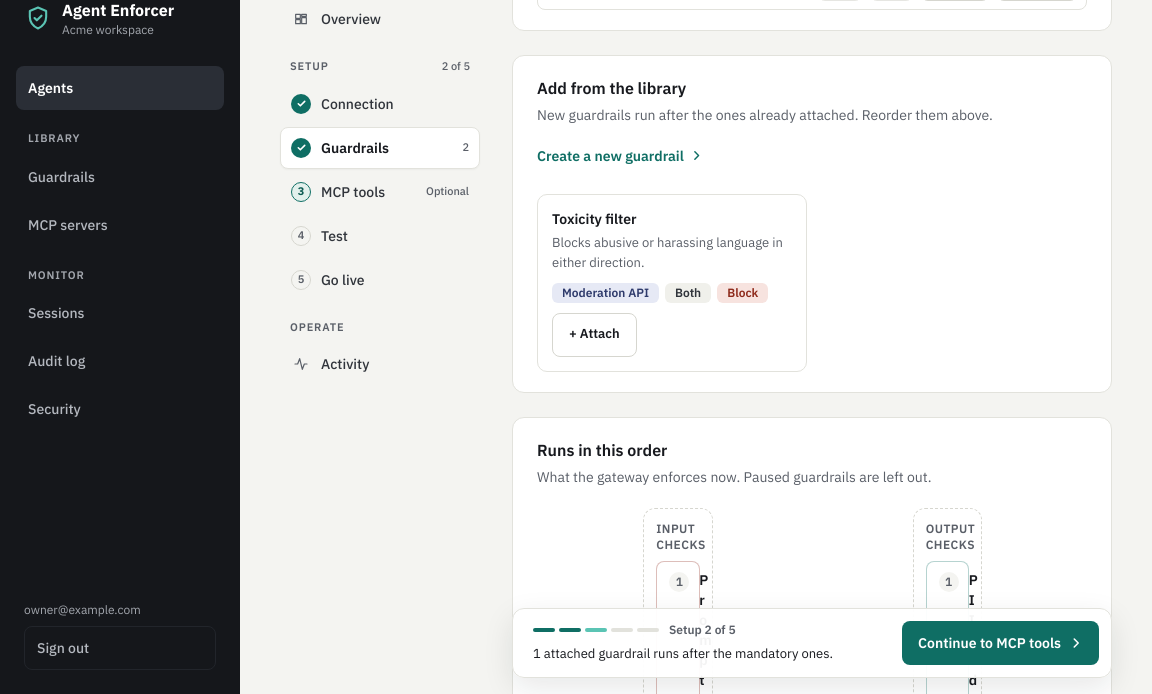
Scenario: Agent guardrails step (bindings) › shows the API’s message when attaching fails
The image size is (1152, 694).
(page scrolled)
Click the button with aria-label "Attach Toxicity filter" at {"x": 594, "y": 334}, box [552,312,637,356]
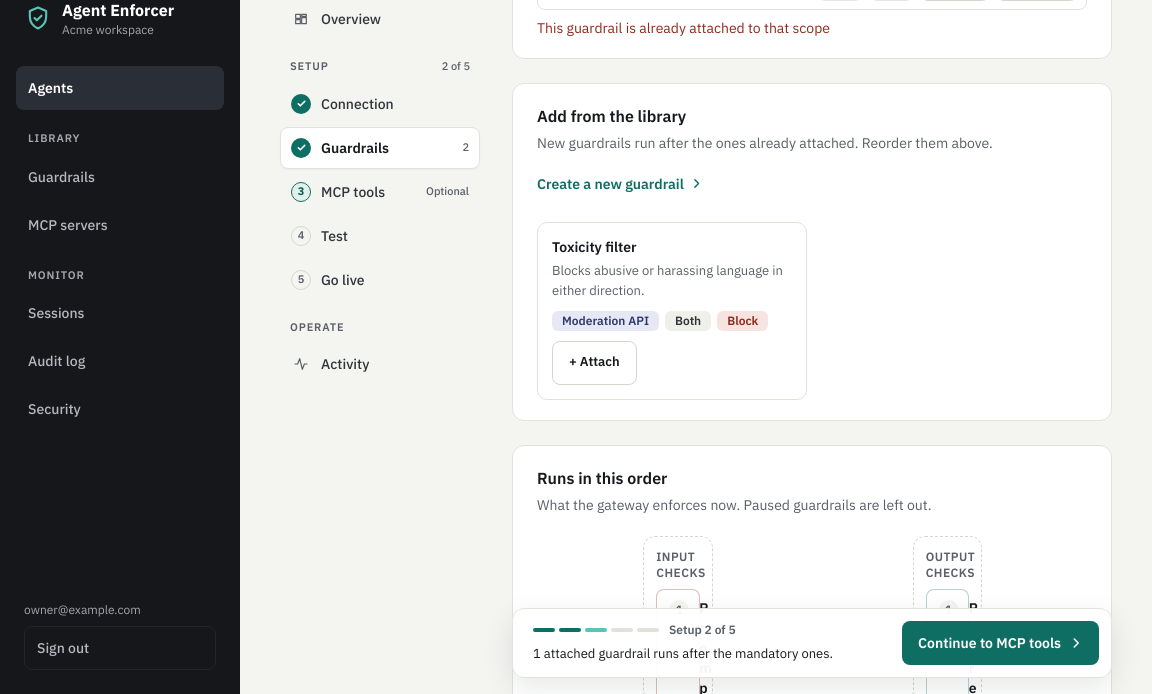
Now the text "This guardrail is already attached to that scope" is shown, box [537,18,830,36]
